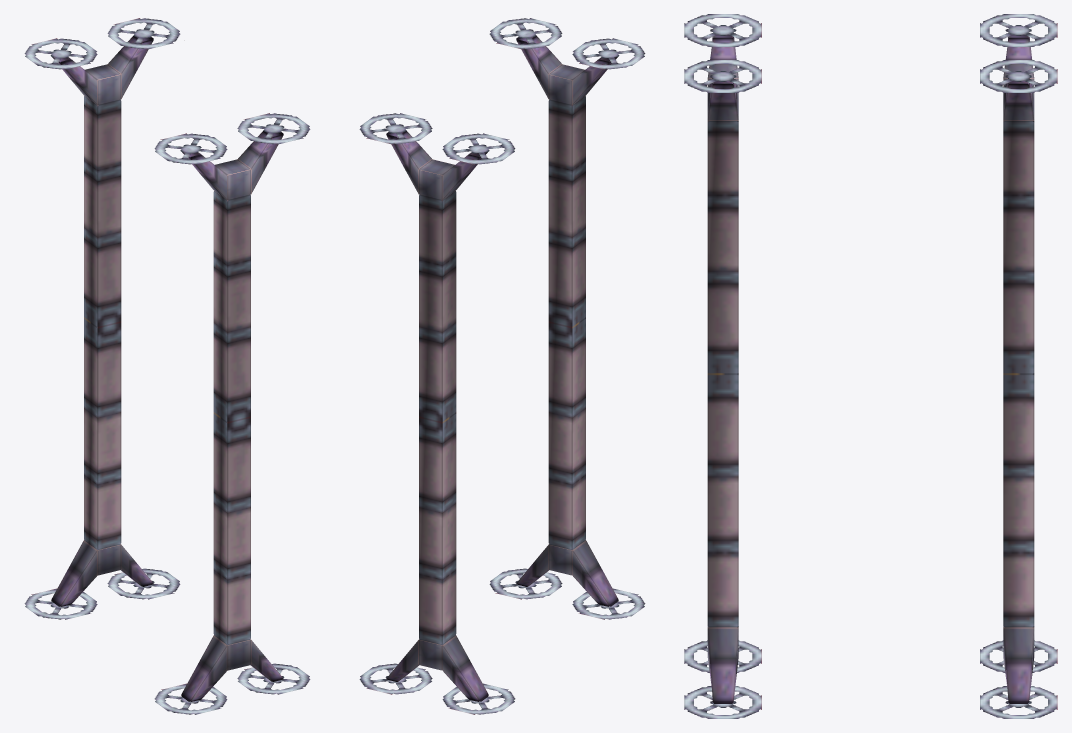
3 views of the same model, side by side, from view 1: azimuth 30°, elevation 25°; view 2: azimuth 150°, elevation 25°; view 3: azimuth 270°, elevation 25° (orthographic). The views are drawn at different scales.
Visible parts, largest first — view 1: T1L7M003_8; view 2: T1L7M003_8; view 3: T1L7M003_8.
Boxes of the visible parts, x1,y1,x2,y2 form: T1L7M003_8: [24, 18, 310, 714]; T1L7M003_8: [359, 18, 645, 714]; T1L7M003_8: [684, 14, 1057, 718].
Size of the model in its own units: 1.02 by 3.76 by 2.03.
